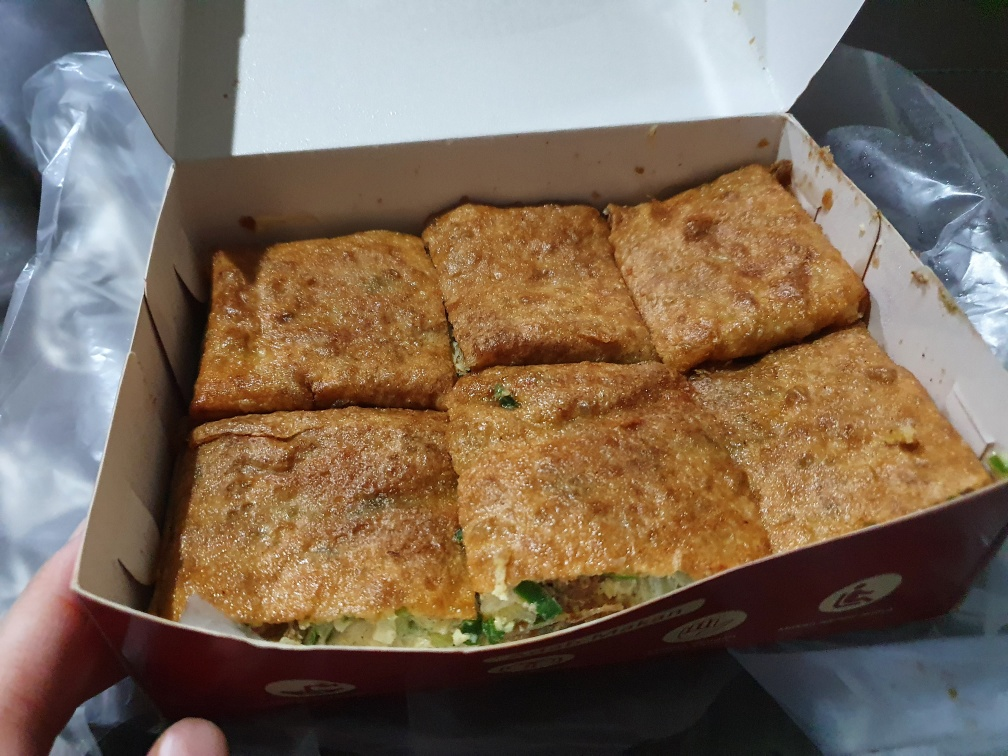martabak telor: (675, 326, 991, 574), (435, 355, 726, 619), (175, 408, 474, 656), (595, 158, 854, 357), (188, 222, 459, 410), (412, 189, 646, 368)
